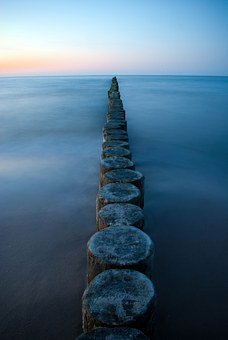sea: (4, 75, 224, 340)
sky: (1, 1, 228, 74)
